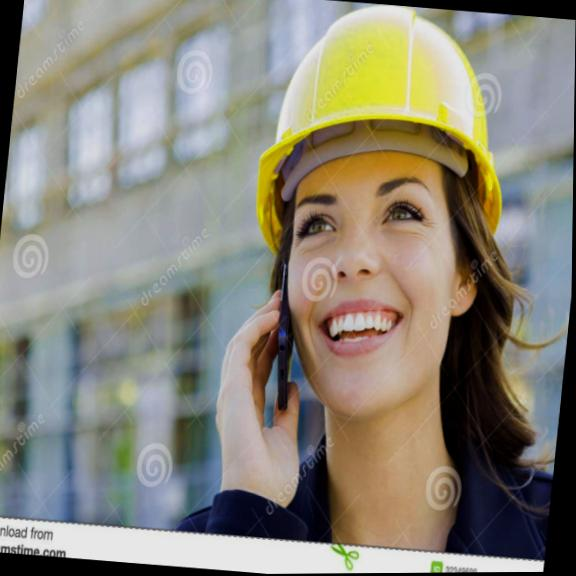no_safety_vest: (163, 418, 556, 562)
